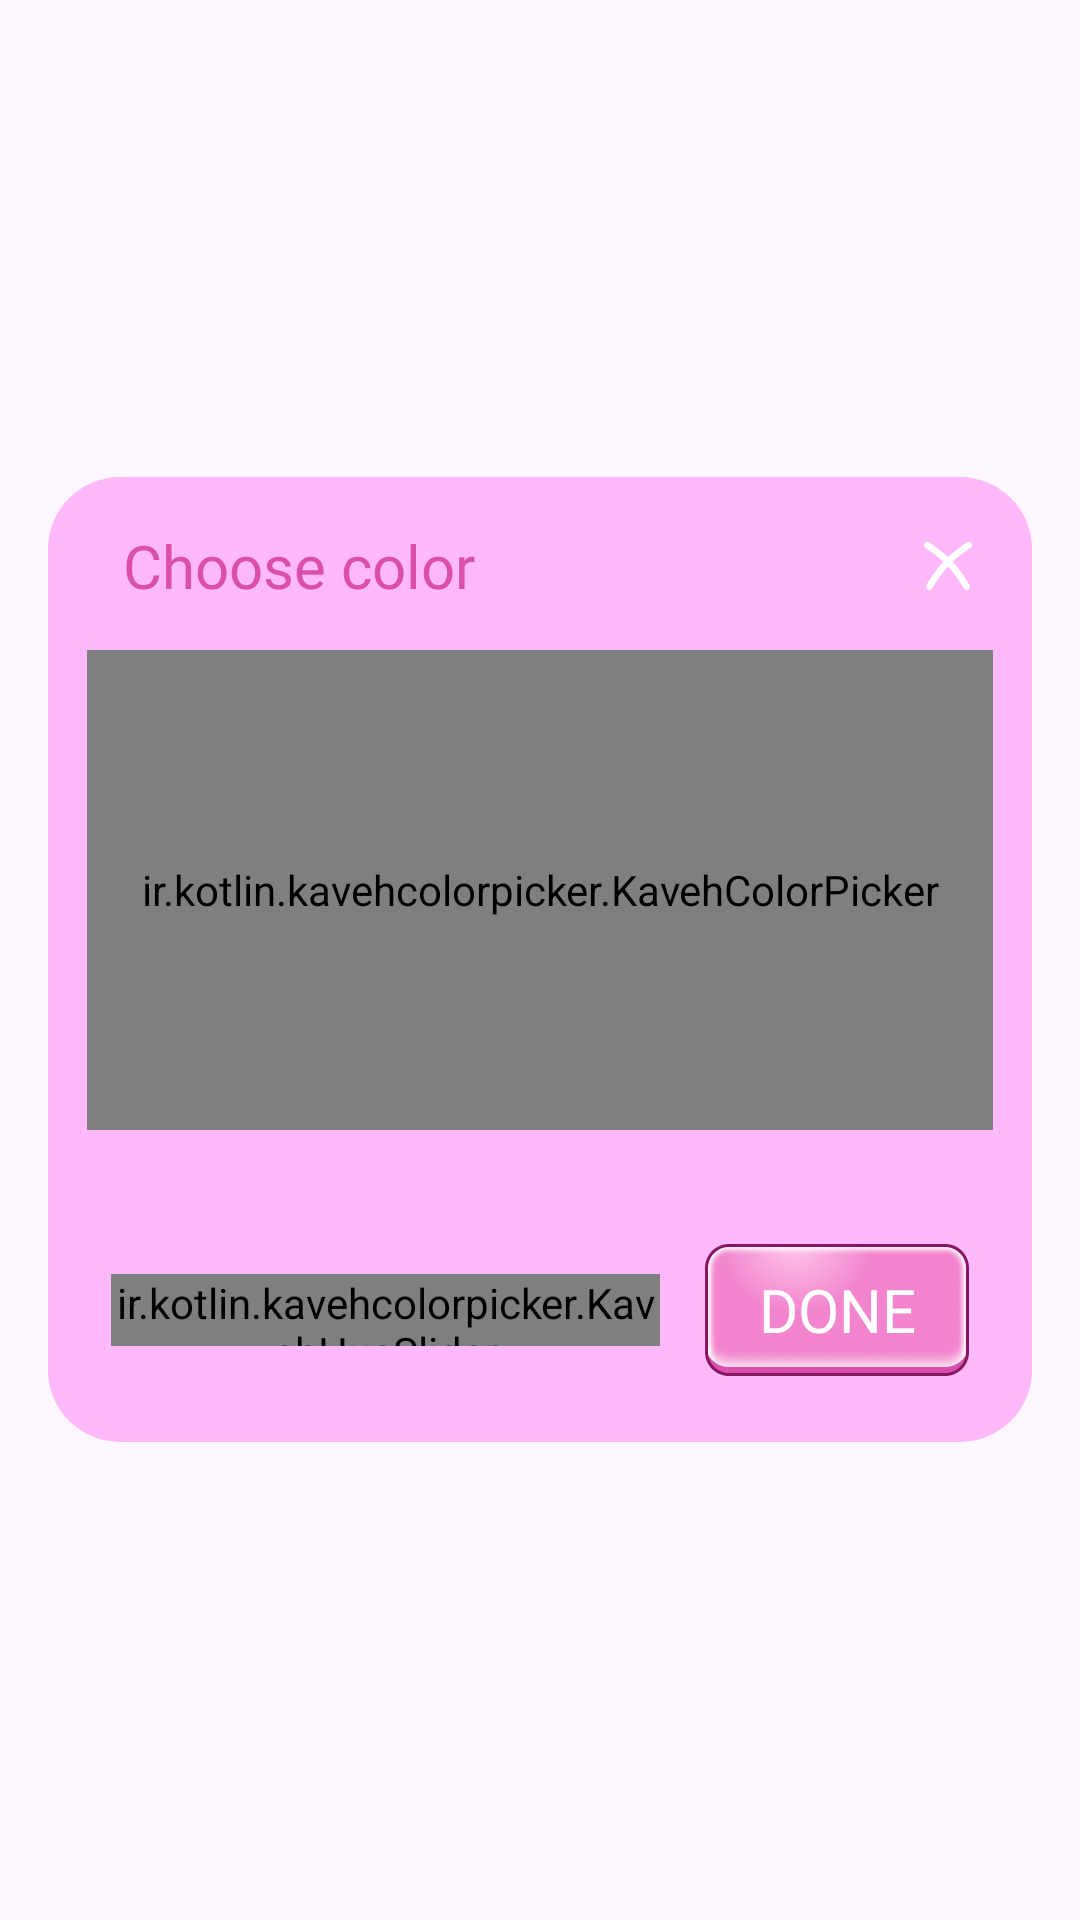

Icons on this 1080*1920 Android screen, each with its box as (x1, y1, x2, y2):
close: (924, 542, 972, 590)
